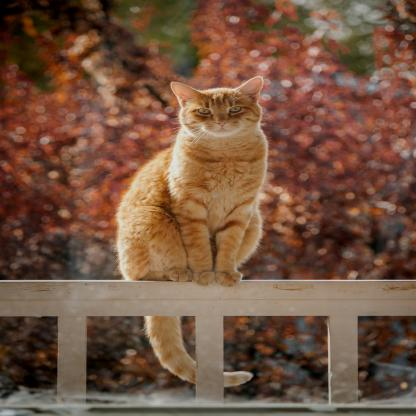cat: (112, 75, 273, 388)
